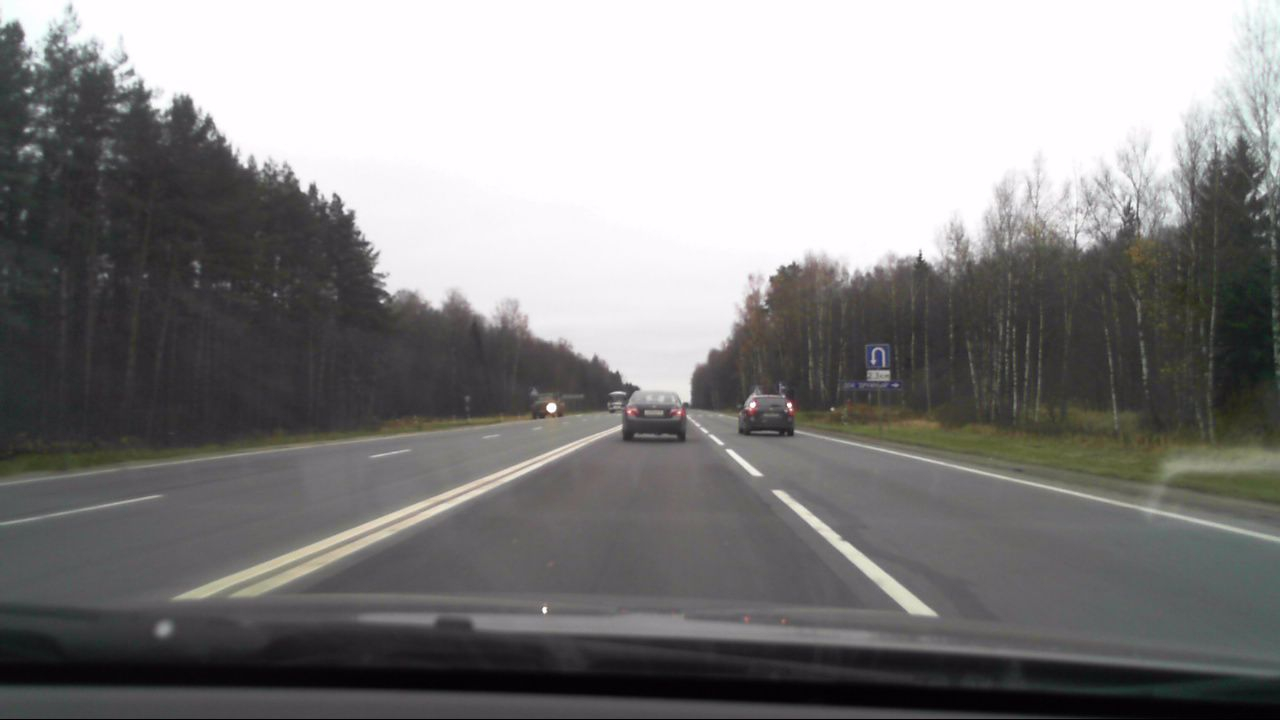U-turn: (866, 345, 889, 368)
